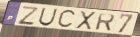7: (118, 13, 134, 34)
C: (56, 9, 77, 30)
R: (94, 12, 116, 32)
U: (37, 7, 59, 27)
X: (75, 10, 97, 31)
Z: (17, 5, 39, 25)
